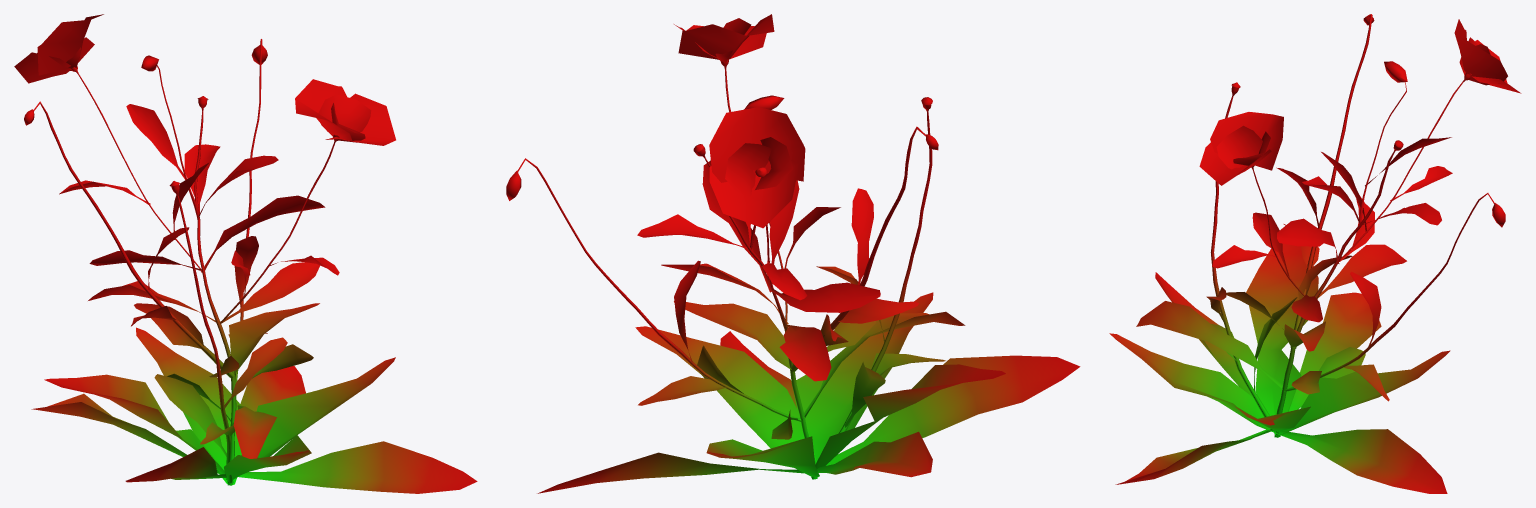
Rendered from Field Poppy_LOD1_Var2_vmcobd0ja.fbx.
The picture shows the model from 3 angles, left to right: view 1: azimuth 30°, elevation 25°; view 2: azimuth 150°, elevation 25°; view 3: azimuth 270°, elevation 25°; orthographic projection. The views are drawn at different scales.
Visible parts, largest first — view 1: _cacj_Var2_LOD1; view 2: _cacj_Var2_LOD1; view 3: _cacj_Var2_LOD1.
Part boxes in pixels (x1,y1,x2,y2): _cacj_Var2_LOD1: (14, 14, 477, 493); _cacj_Var2_LOD1: (506, 14, 1080, 493); _cacj_Var2_LOD1: (1109, 14, 1521, 493).
Size of the model in its own units: 41.04 by 47.34 by 45.91.
